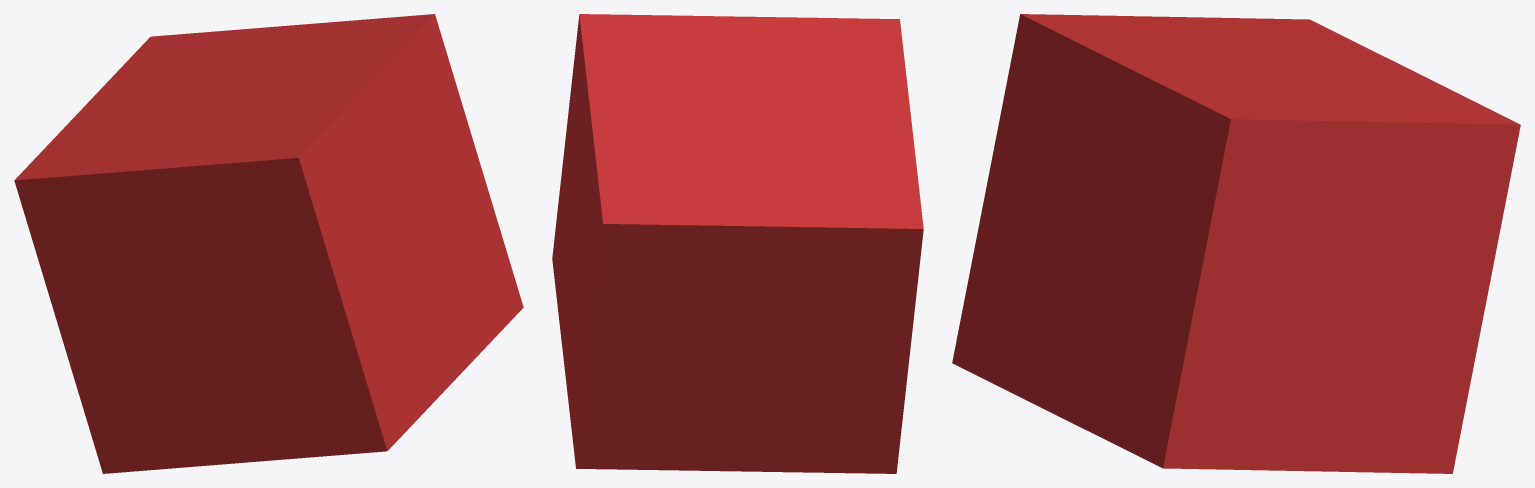
Rendered from seed_pivots_anim.fbx.
The picture shows the model from 3 angles, left to right: view 1: azimuth 30°, elevation 25°; view 2: azimuth 150°, elevation 25°; view 3: azimuth 270°, elevation 25°; orthographic projection. The views are drawn at different scales.
Parts seen in each view (by area): view 1: PivotAnimNode; view 2: PivotAnimNode; view 3: PivotAnimNode.
Part boxes in pixels (<box>): PivotAnimNode: <box>14,14,523,473</box>; PivotAnimNode: <box>552,14,923,473</box>; PivotAnimNode: <box>952,14,1520,473</box>.
Size of the model in its own units: 9.38 by 7.75 by 9.35.
